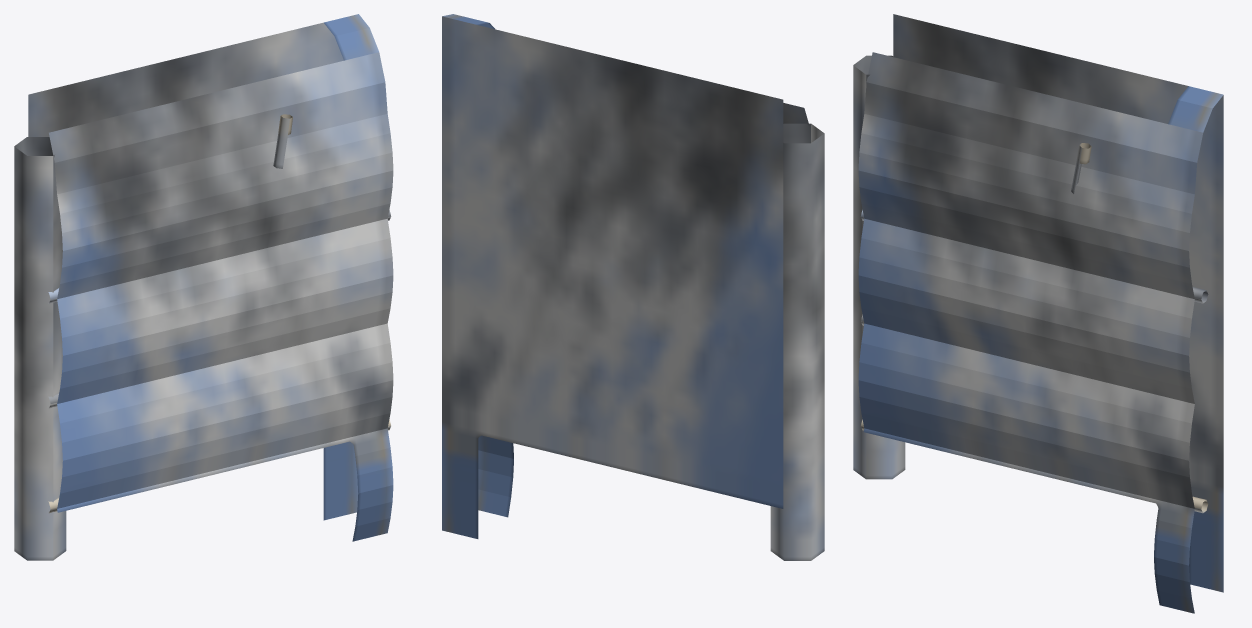
File: section-2.obj
3 views of the same model, side by side, from view 1: azimuth 30°, elevation 25°; view 2: azimuth 150°, elevation 25°; view 3: azimuth 330°, elevation 25° (orthographic). The views are drawn at different scales.
Bounding box in the file's own units: 0.7419 × 0.95 × 0.1314.
